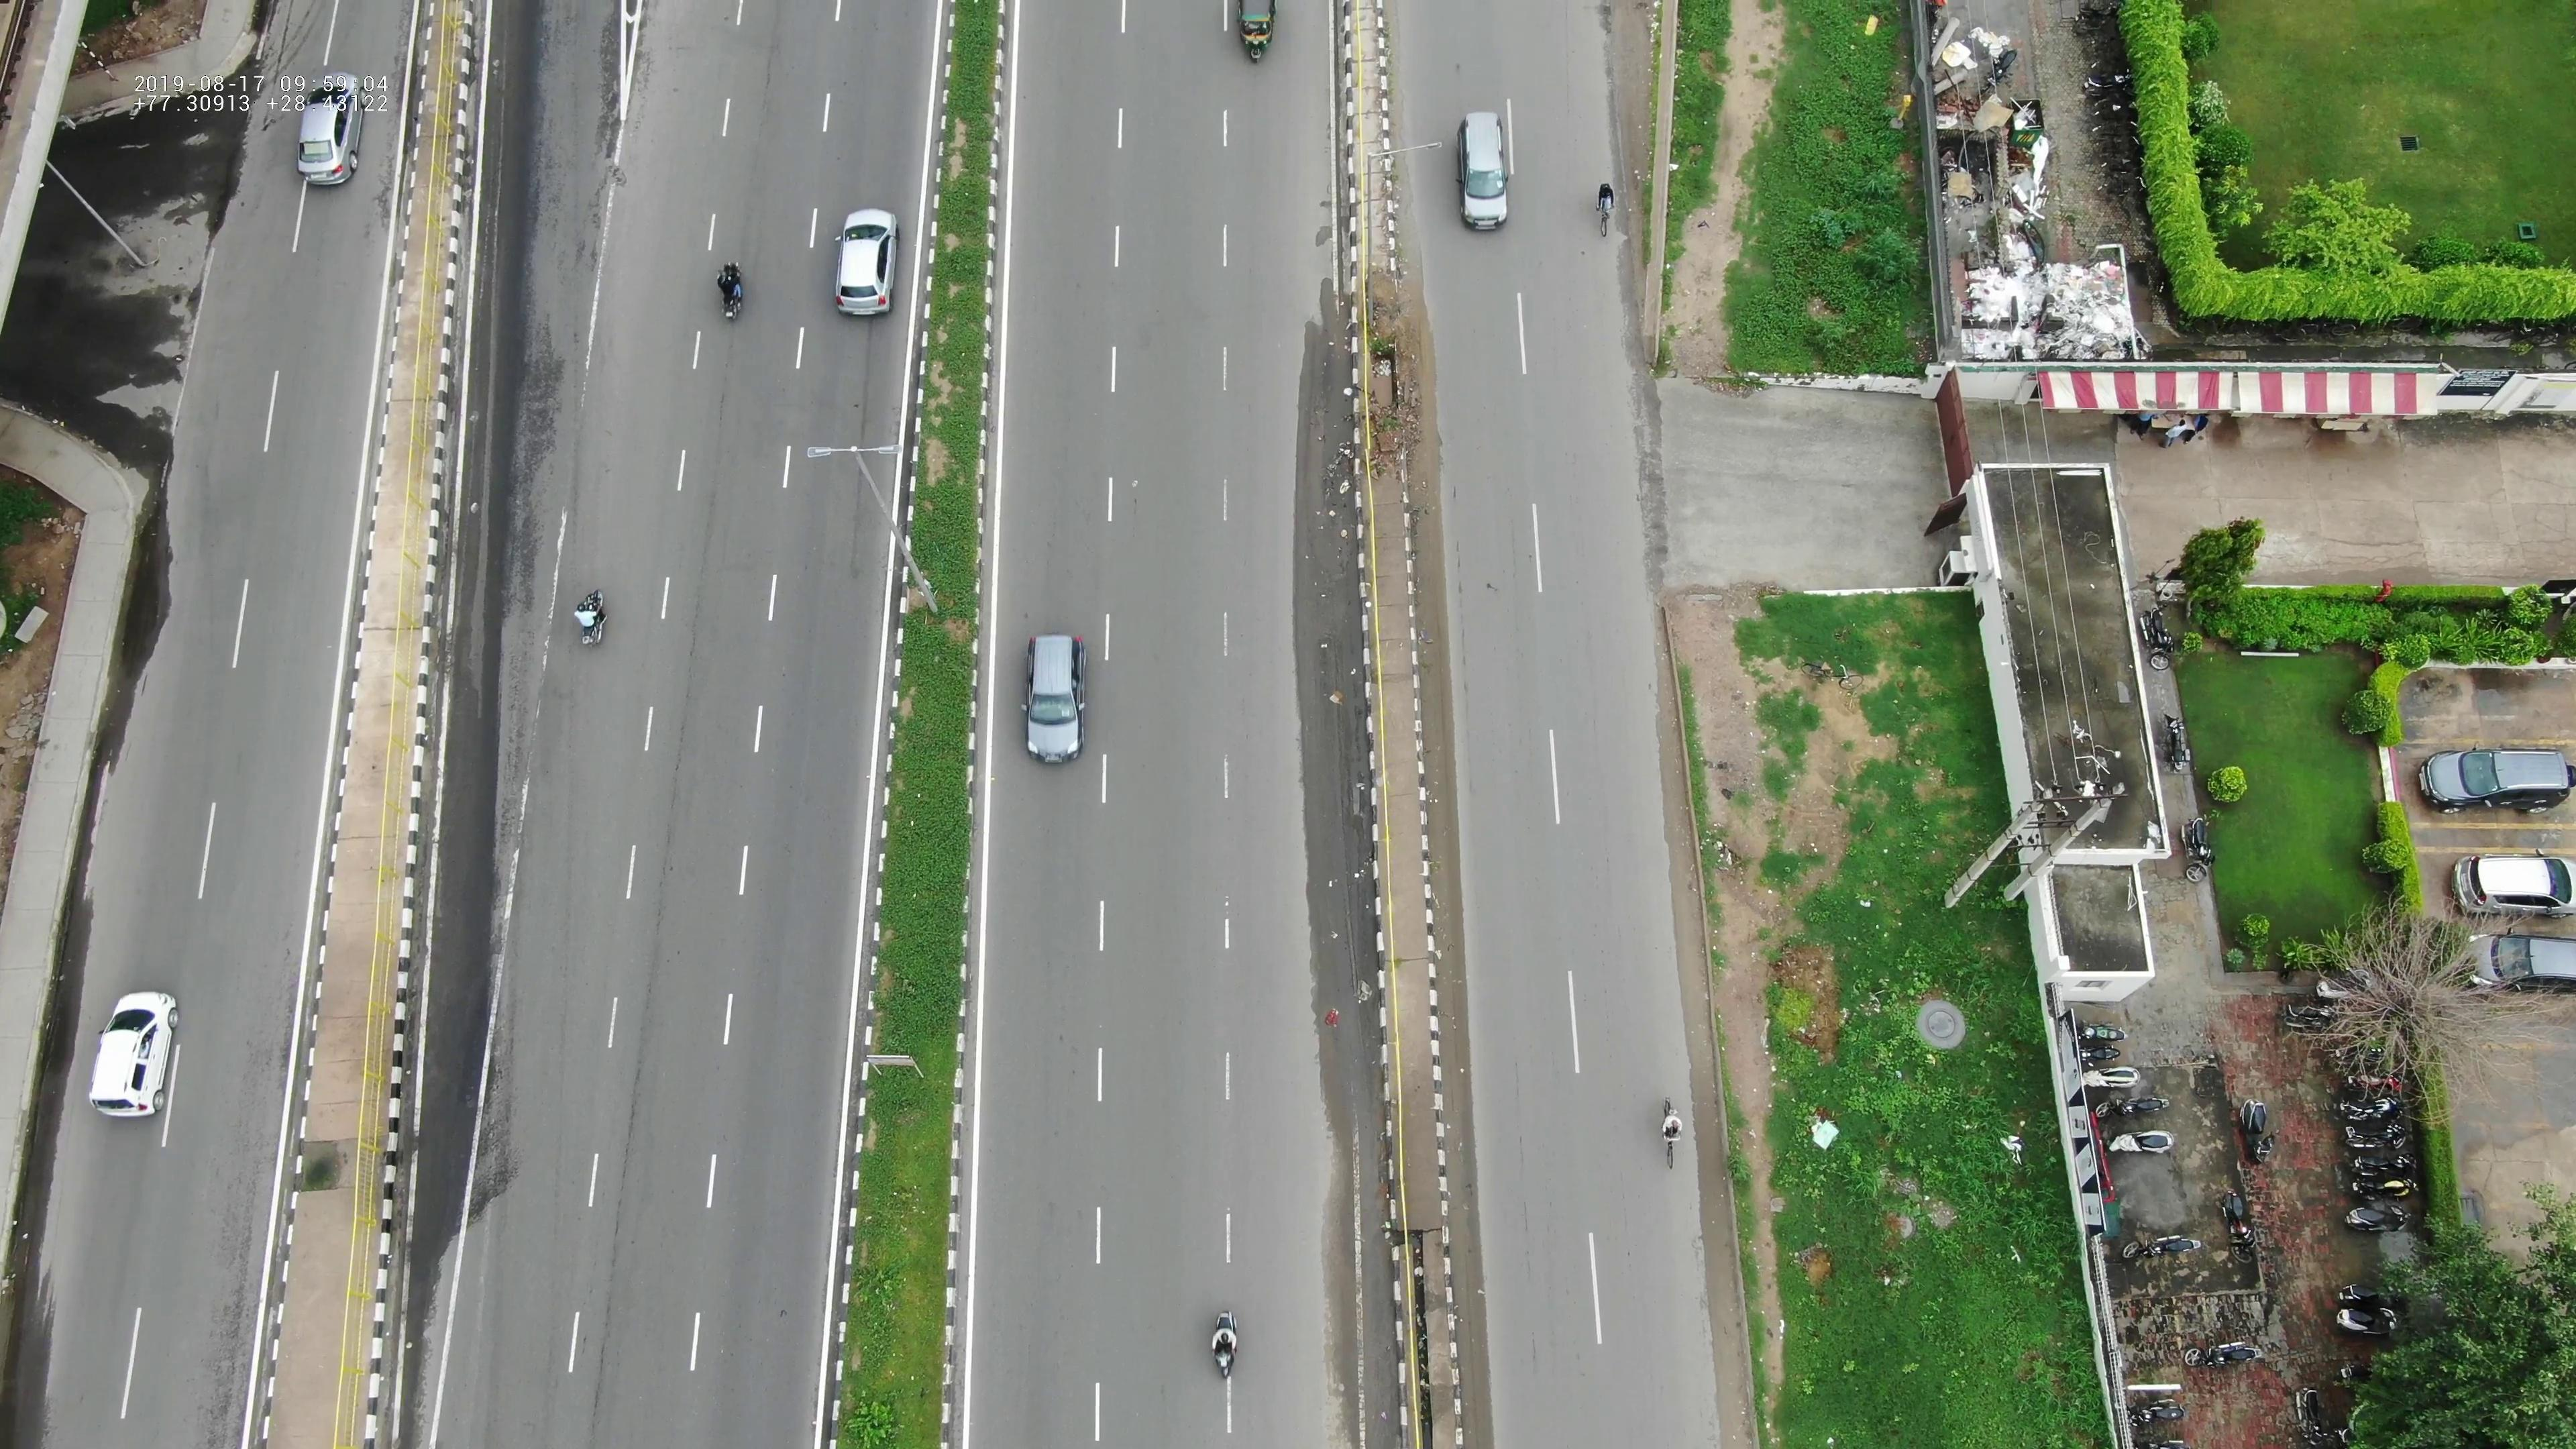Hair_cracks: (357, 127, 410, 248)
Muddy_road: (1391, 269, 1453, 617)
